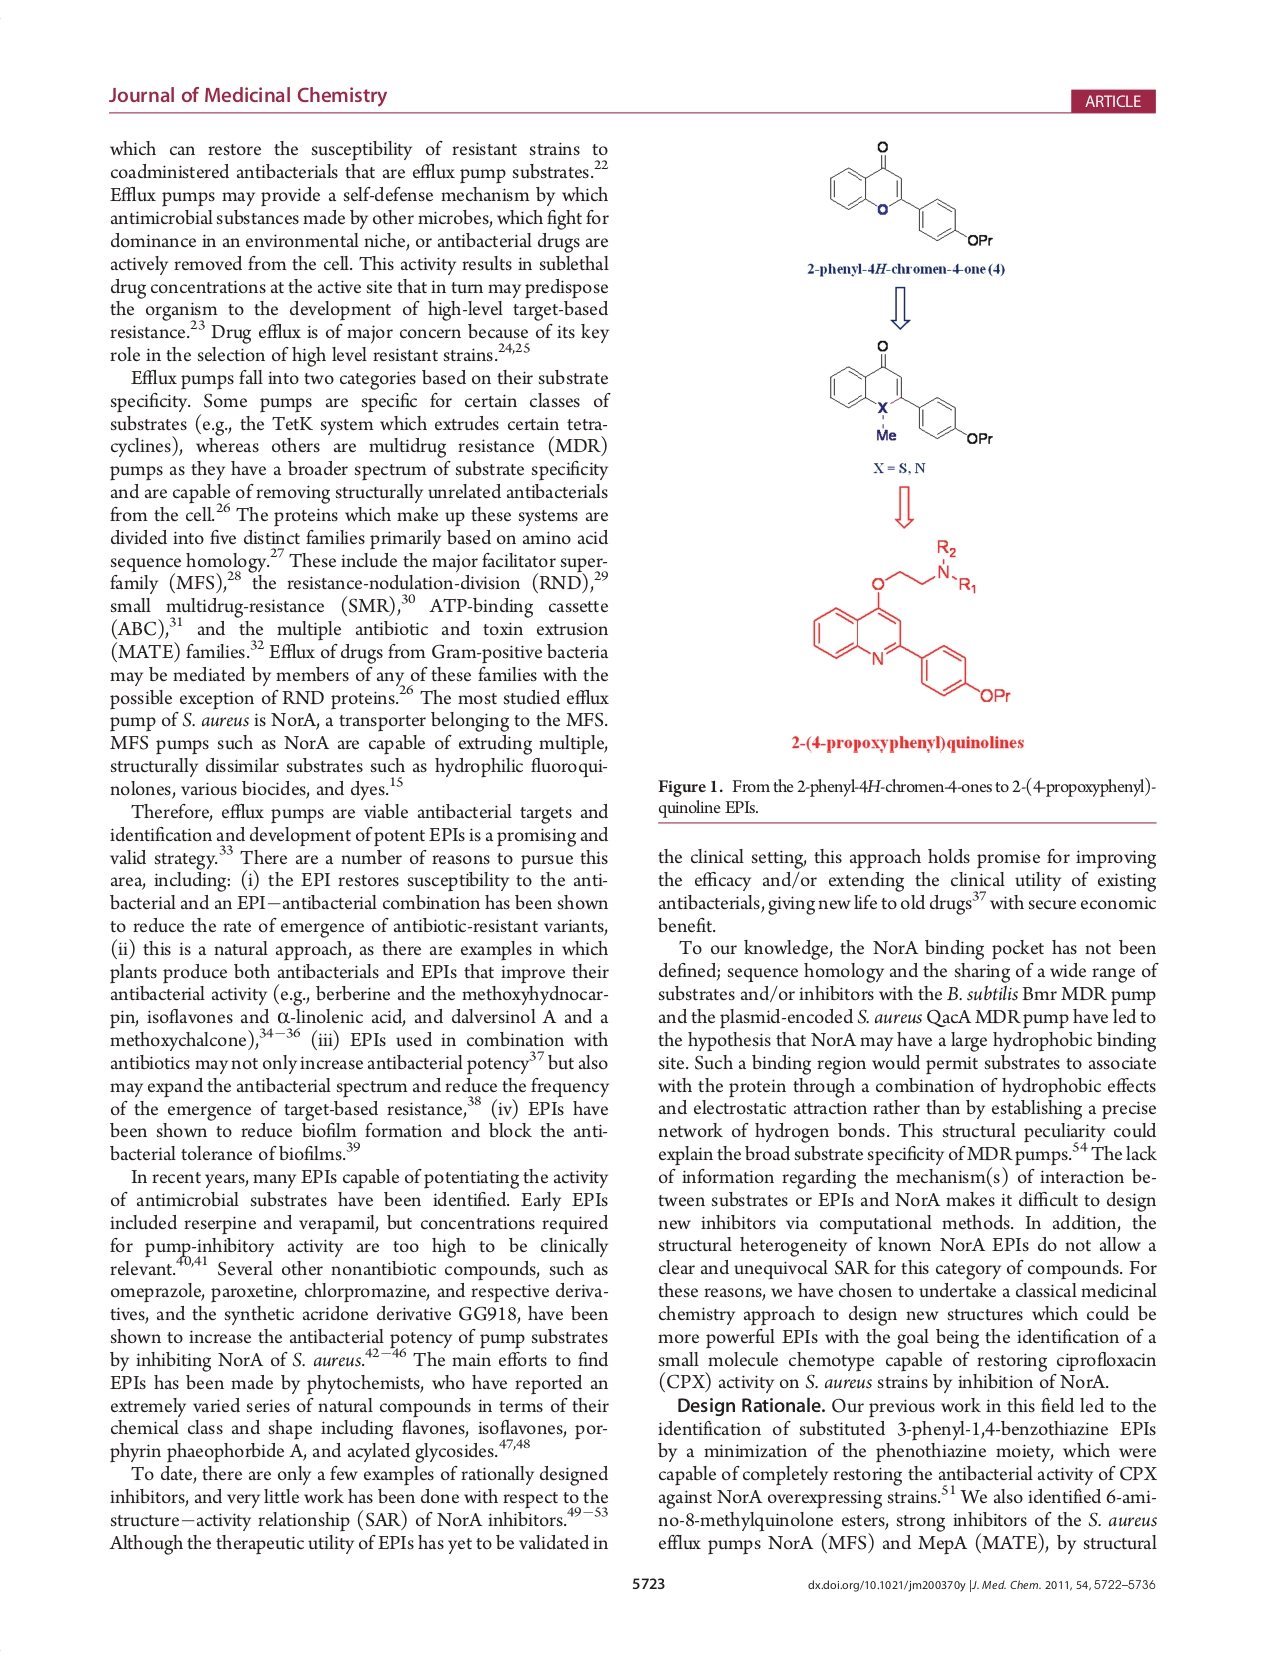exist_molecular: (809, 535, 1015, 706), (827, 138, 999, 250), (828, 340, 996, 446)
